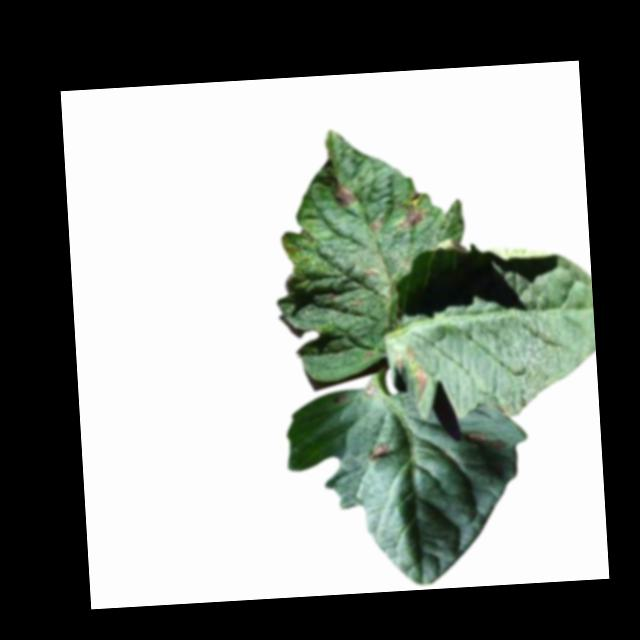Early_blight: (394, 345, 432, 397), (400, 199, 431, 231), (334, 183, 356, 207), (366, 443, 392, 463), (363, 382, 378, 399), (372, 218, 383, 232)
